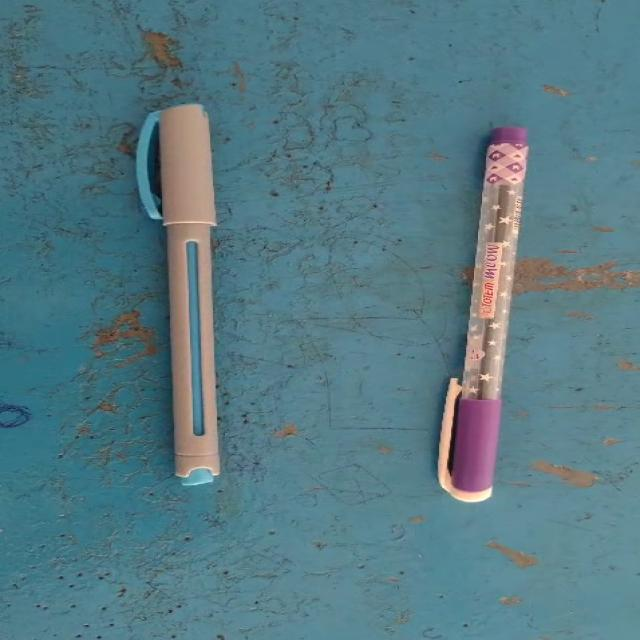pen: (109, 78, 294, 522), (419, 73, 574, 527)
